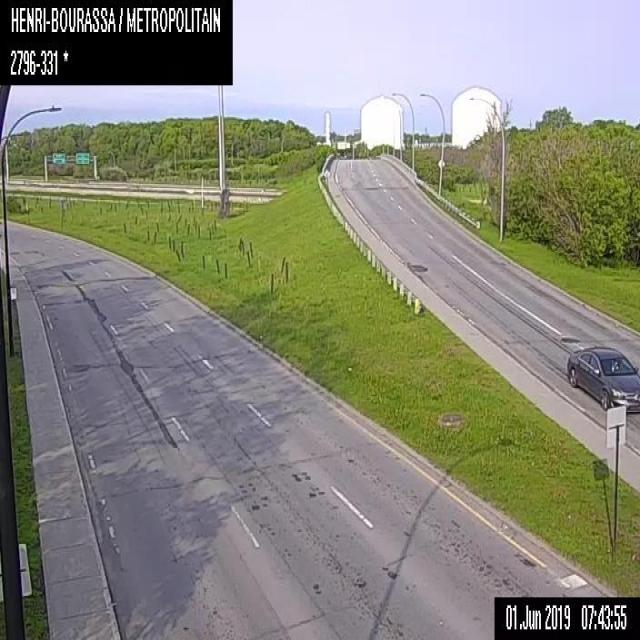vehicle: (567, 344, 639, 413)
